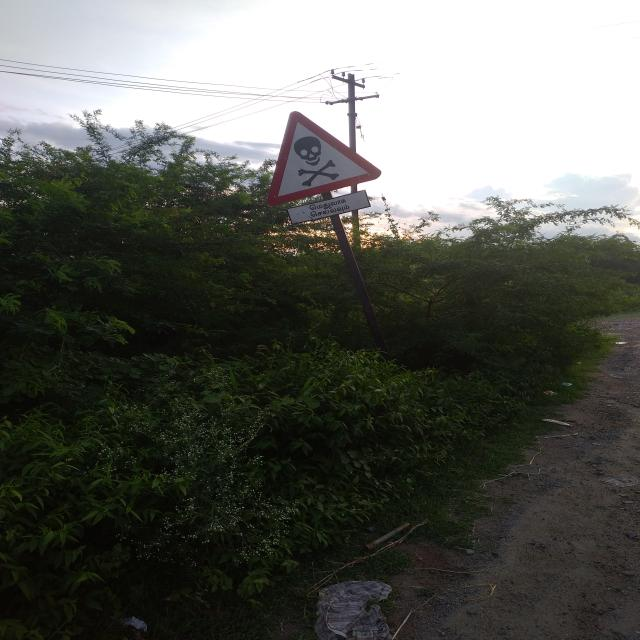WARNING: (256, 111, 382, 206)
